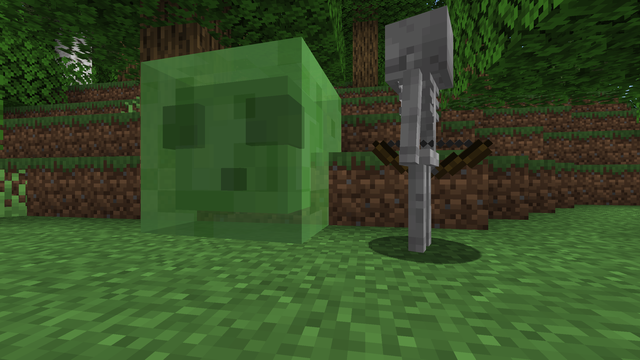slimes: (133, 30, 338, 243)
squelettes: (384, 6, 467, 258)
